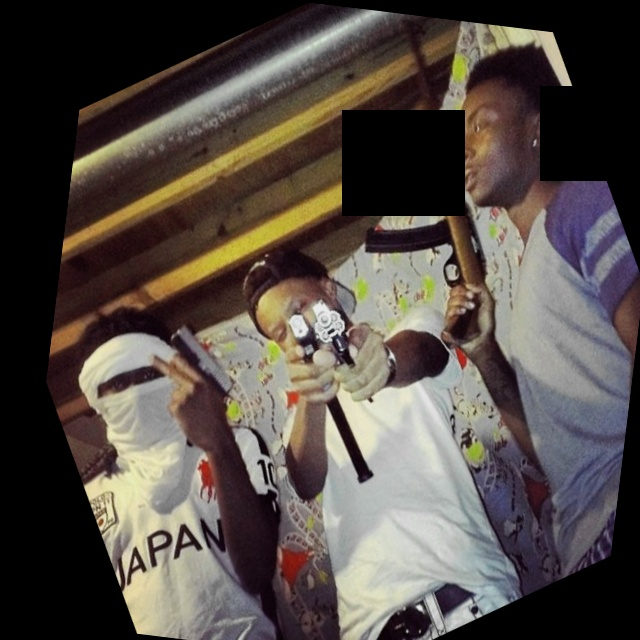gun: (274, 3, 555, 376), (249, 271, 435, 509), (139, 296, 272, 461)
